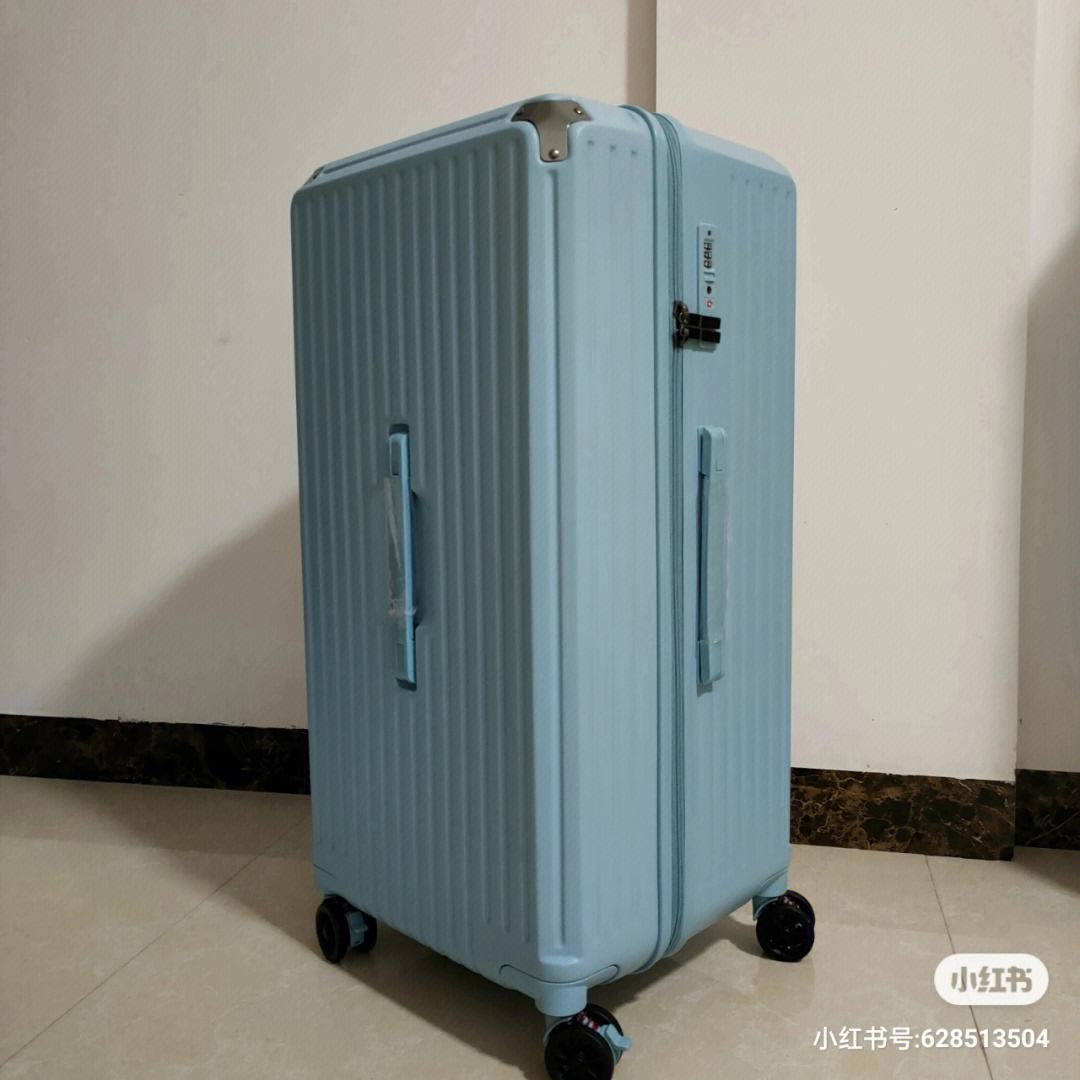box: (288, 94, 796, 1010)
handle: (697, 424, 728, 687)
lock: (679, 222, 721, 356)
wheel: (543, 1003, 632, 1080), (756, 889, 816, 963), (315, 898, 379, 964)
